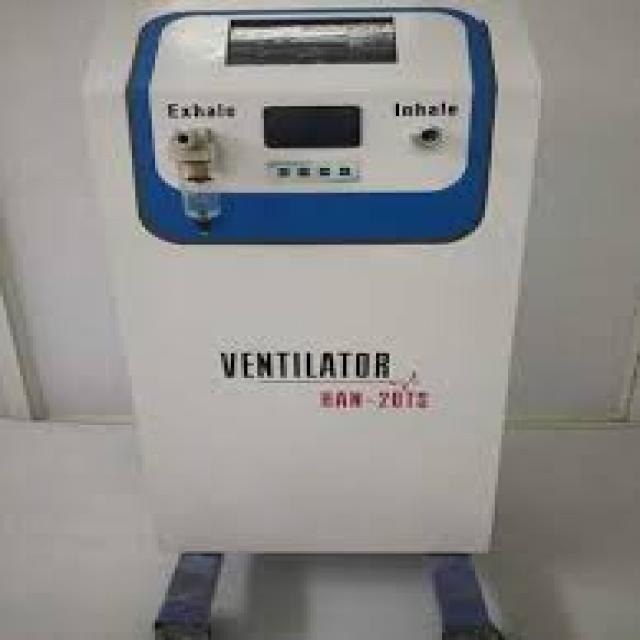ventilator: (116, 40, 549, 543)
